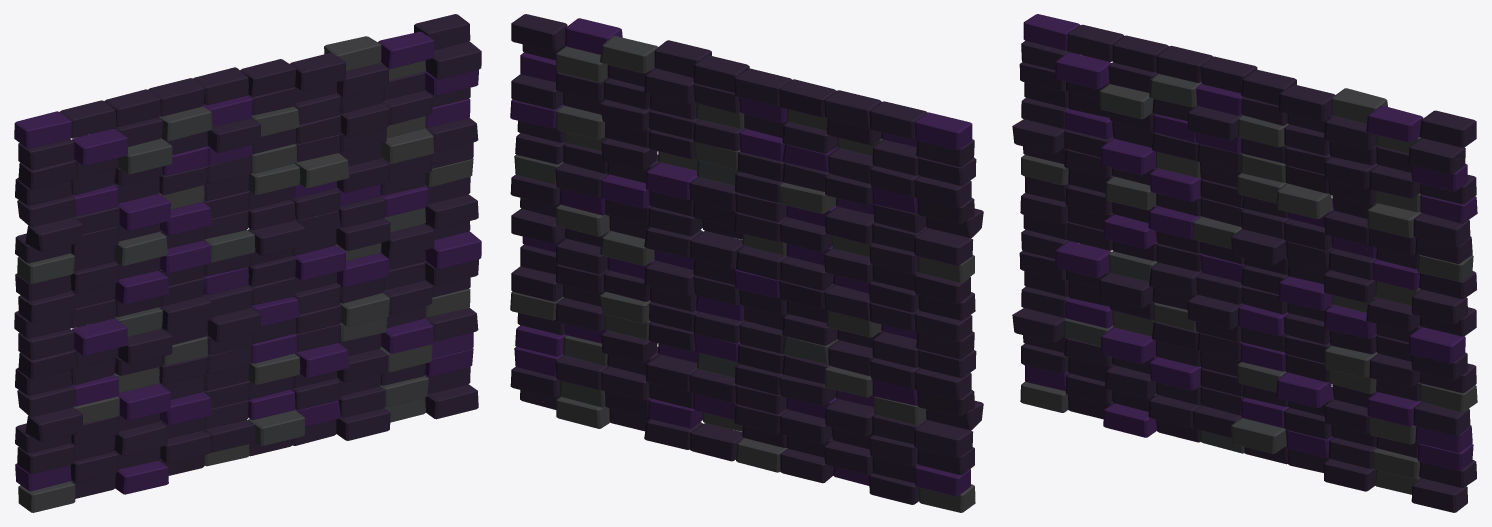
File: ParedeQuebrávelVerde.fbx
3 views of the same model, side by side, from view 1: azimuth 30°, elevation 25°; view 2: azimuth 150°, elevation 25°; view 3: azimuth 330°, elevation 25° (orthographic).
Visible parts, largest first — view 1: ParedeTijolos; view 2: ParedeTijolos; view 3: ParedeTijolos.
Part boxes in pixels (x1,y1,x2,y2): ParedeTijolos: (14, 14, 481, 512); ParedeTijolos: (510, 14, 983, 512); ParedeTijolos: (1012, 14, 1477, 512).
Bounding box in the file's own units: 264 × 216 × 27.58.
